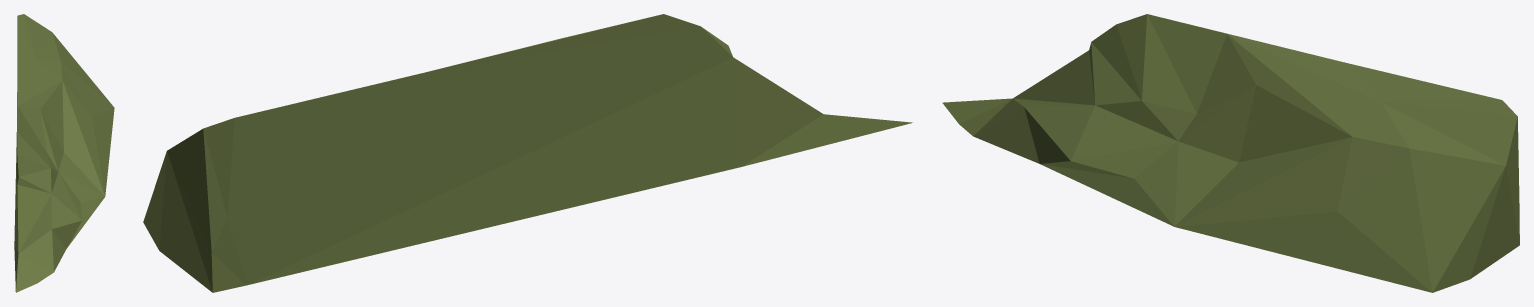
The model's file is ground_40.fbx.
3 views of the same model, side by side, from view 1: azimuth 30°, elevation 25°; view 2: azimuth 150°, elevation 25°; view 3: azimuth 270°, elevation 25° (orthographic). The views are drawn at different scales.
Visible parts, largest first — view 1: ground_40; view 2: ground_40; view 3: ground_40.
Boxes of the visible parts, x1,y1,x2,y2 form: ground_40: (14, 14, 114, 292); ground_40: (143, 14, 912, 292); ground_40: (942, 14, 1519, 292).
Bounding box in the file's own units: 5.21 × 1.81 × 6.64.
